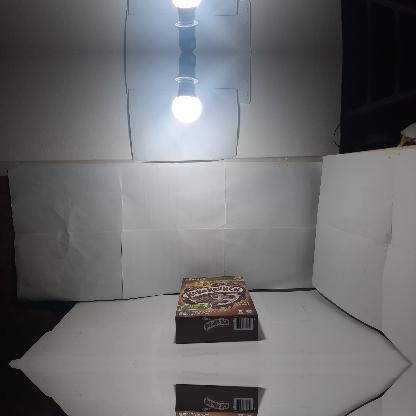Koko-Krunch: (176, 276, 258, 342), (175, 385, 259, 415)
